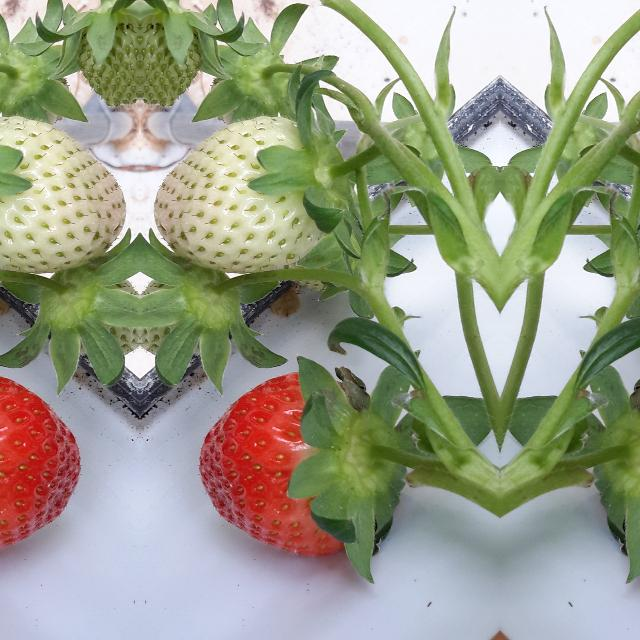Health_100: (200, 369, 396, 563), (0, 369, 80, 563)
Health_25: (152, 114, 344, 274), (0, 114, 127, 274)
